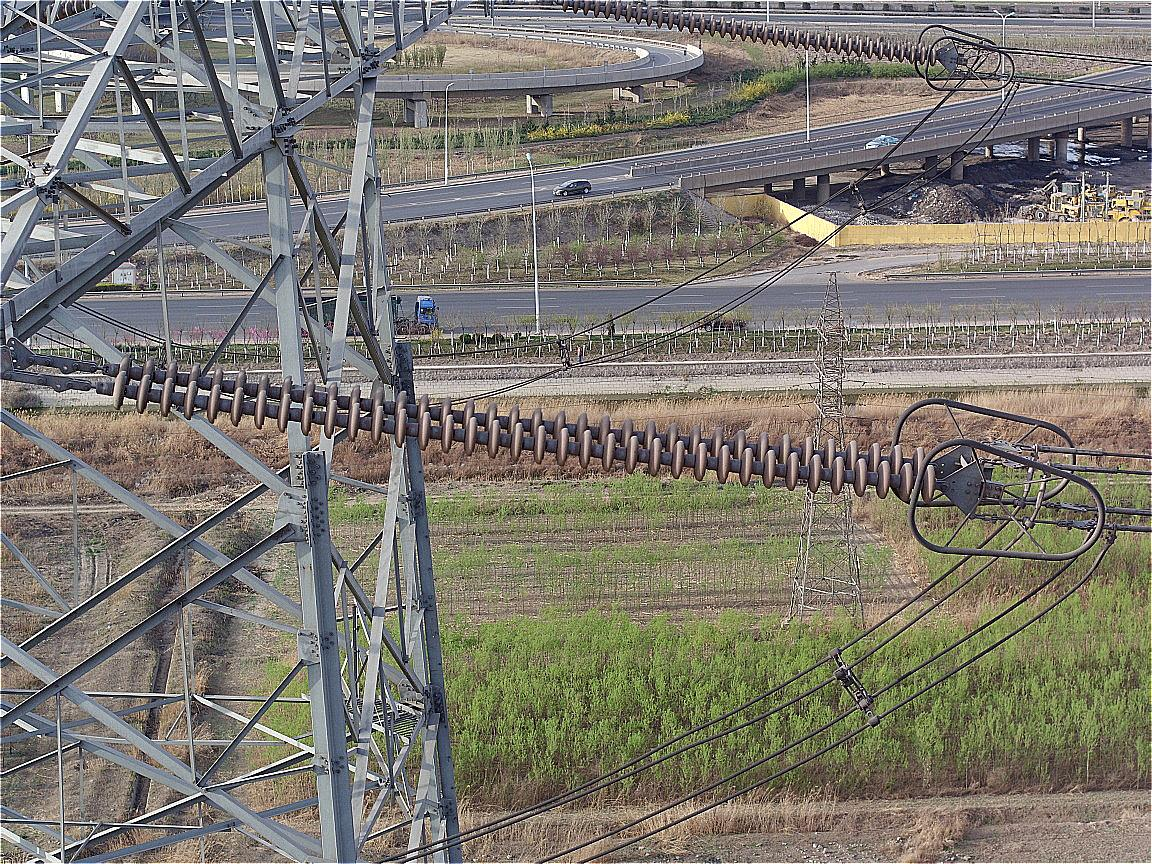insultor1: (110, 351, 940, 503), (564, 1, 940, 68)
